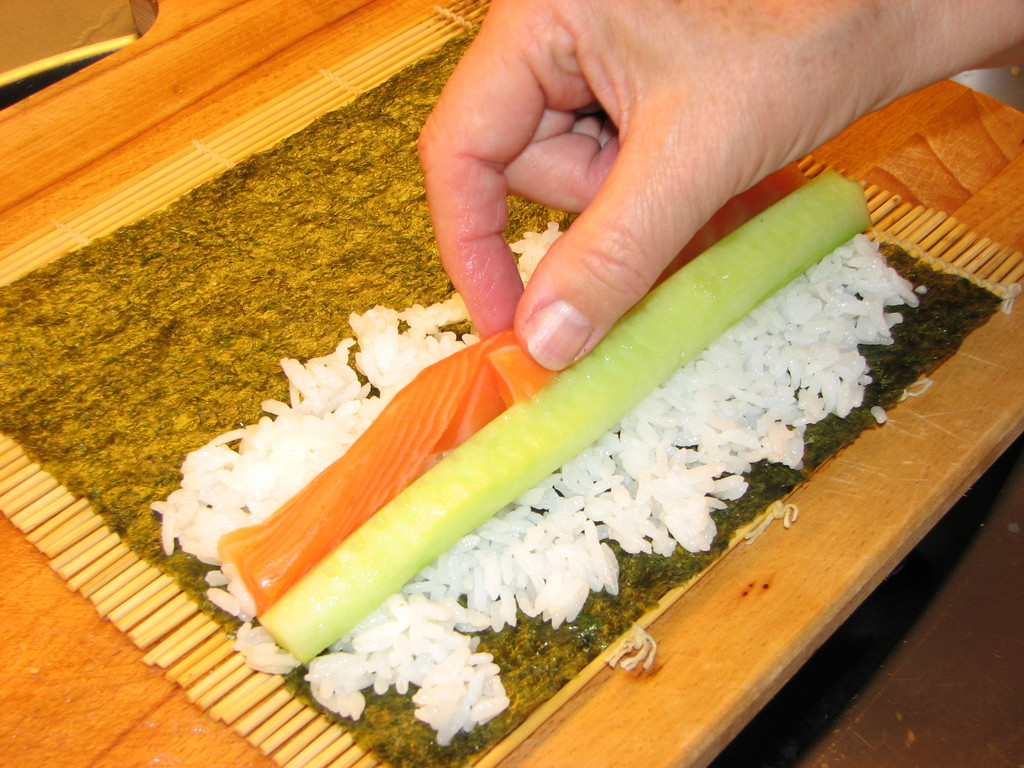sushi: (154, 201, 945, 717)
